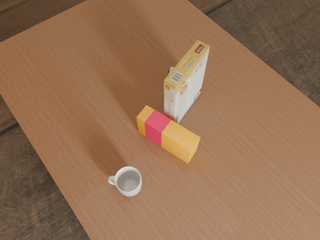box: (164, 40, 210, 124), (137, 105, 200, 163)
cup: (108, 167, 142, 196)
